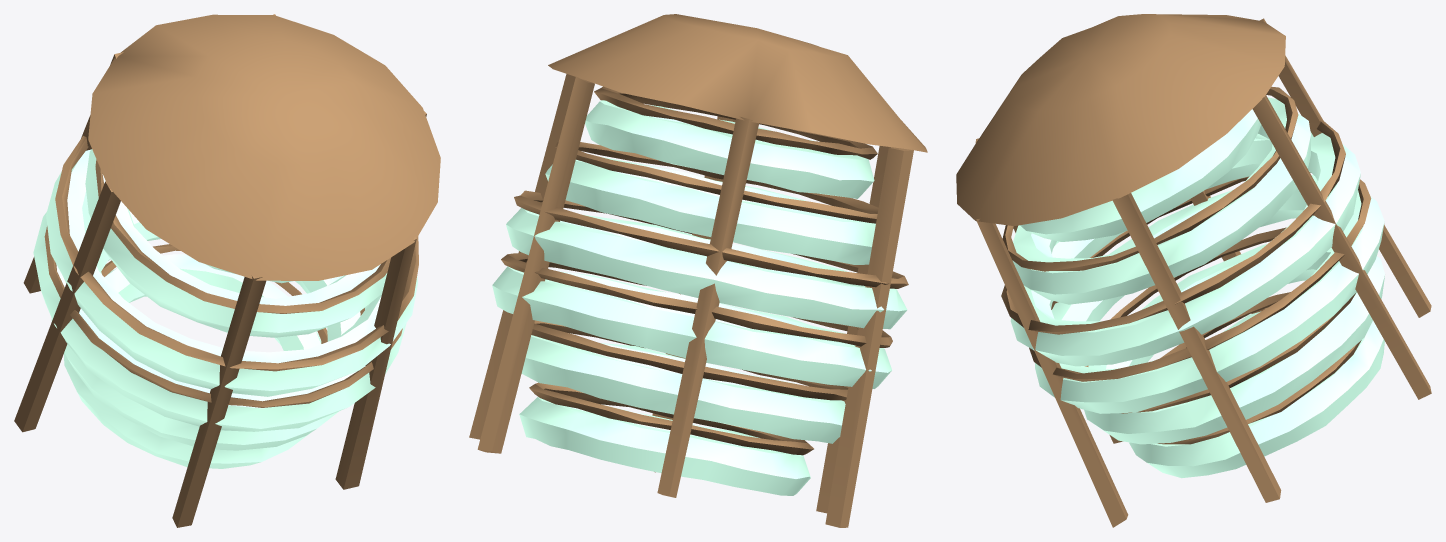
File: find_lens.glb
The picture shows the model from 3 angles, left to right: view 1: azimuth 30°, elevation 25°; view 2: azimuth 150°, elevation 25°; view 3: azimuth 270°, elevation 25°; orthographic projection. The views are drawn at different scales.
Visible parts, largest first — view 1: find_lens; view 2: find_lens; view 3: find_lens.
Boxes of the visible parts, box(x1,y1,x2,y2) form: find_lens: box(14, 14, 440, 527); find_lens: box(469, 14, 927, 527); find_lens: box(956, 14, 1431, 527).
Bounding box in the file's own units: 0.9191 × 1.14 × 1.08.
